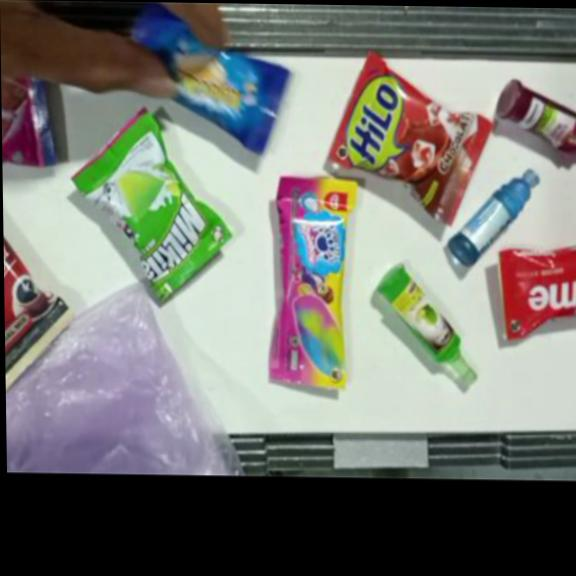Plastik: (4, 278, 245, 476), (68, 107, 235, 306), (325, 49, 495, 226), (131, 7, 291, 156), (267, 176, 360, 391), (374, 261, 478, 389), (3, 236, 74, 393), (446, 167, 541, 269), (499, 244, 576, 342), (494, 77, 576, 154), (1, 75, 59, 167)
